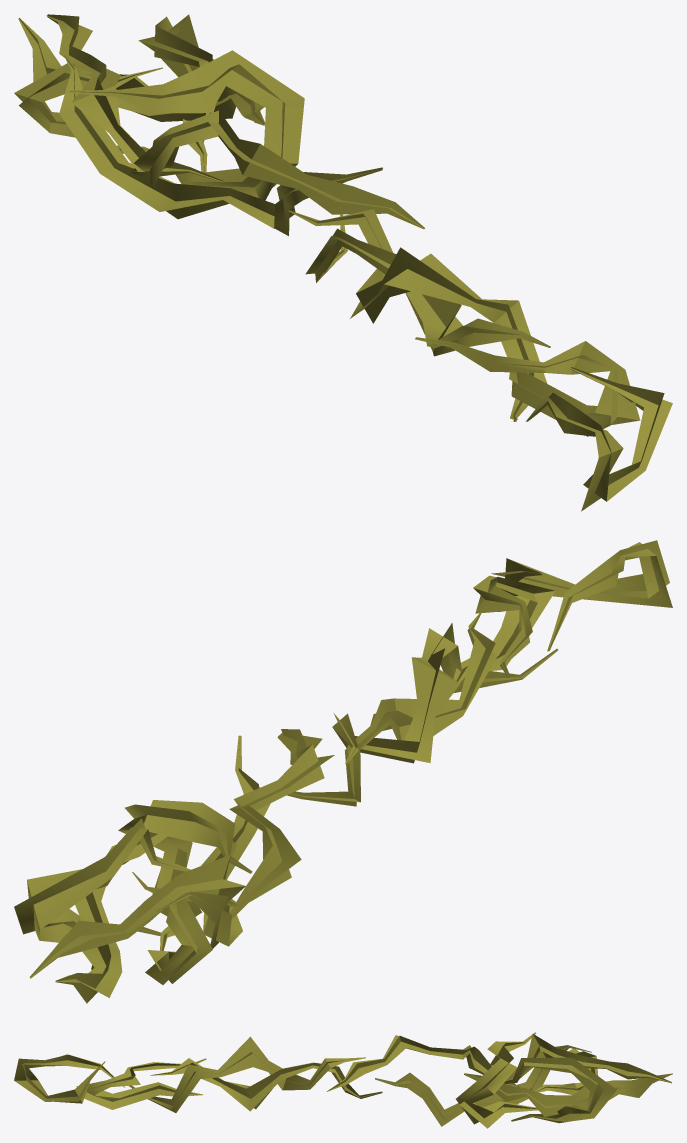
The model's file is etc_gargoyle_weapon_aura_spear_elec_eff.glb.
3 views of the same model, one above another, from view 1: azimuth 30°, elevation 25°; view 2: azimuth 150°, elevation 25°; view 3: azimuth 270°, elevation 25° (orthographic). The views are drawn at different scales.
Size of the model in its own units: 0.7195 by 0.5193 by 4.03.
